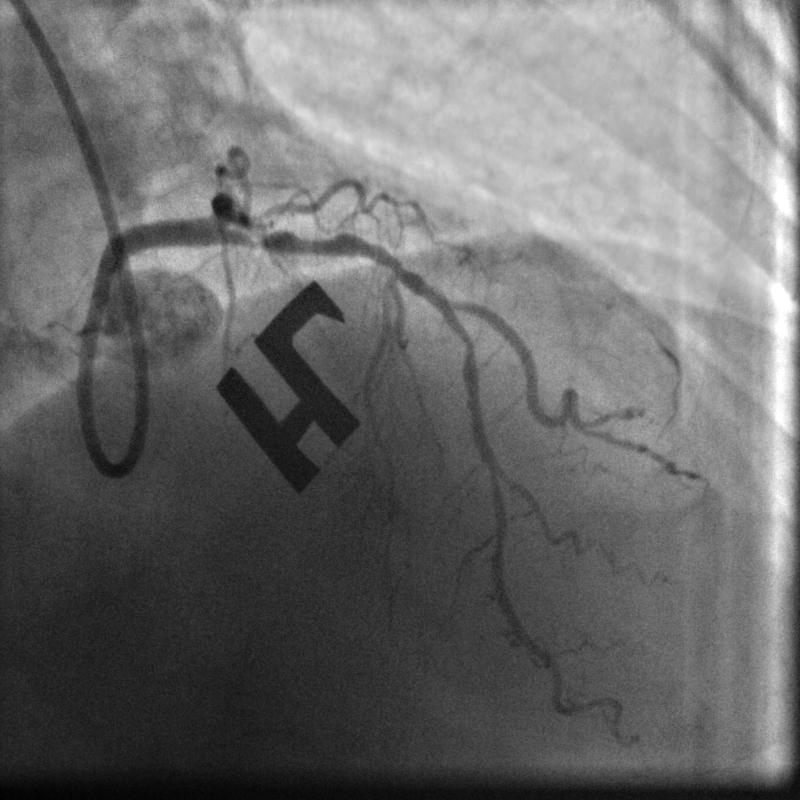Stenosis: (244, 218, 356, 256)
